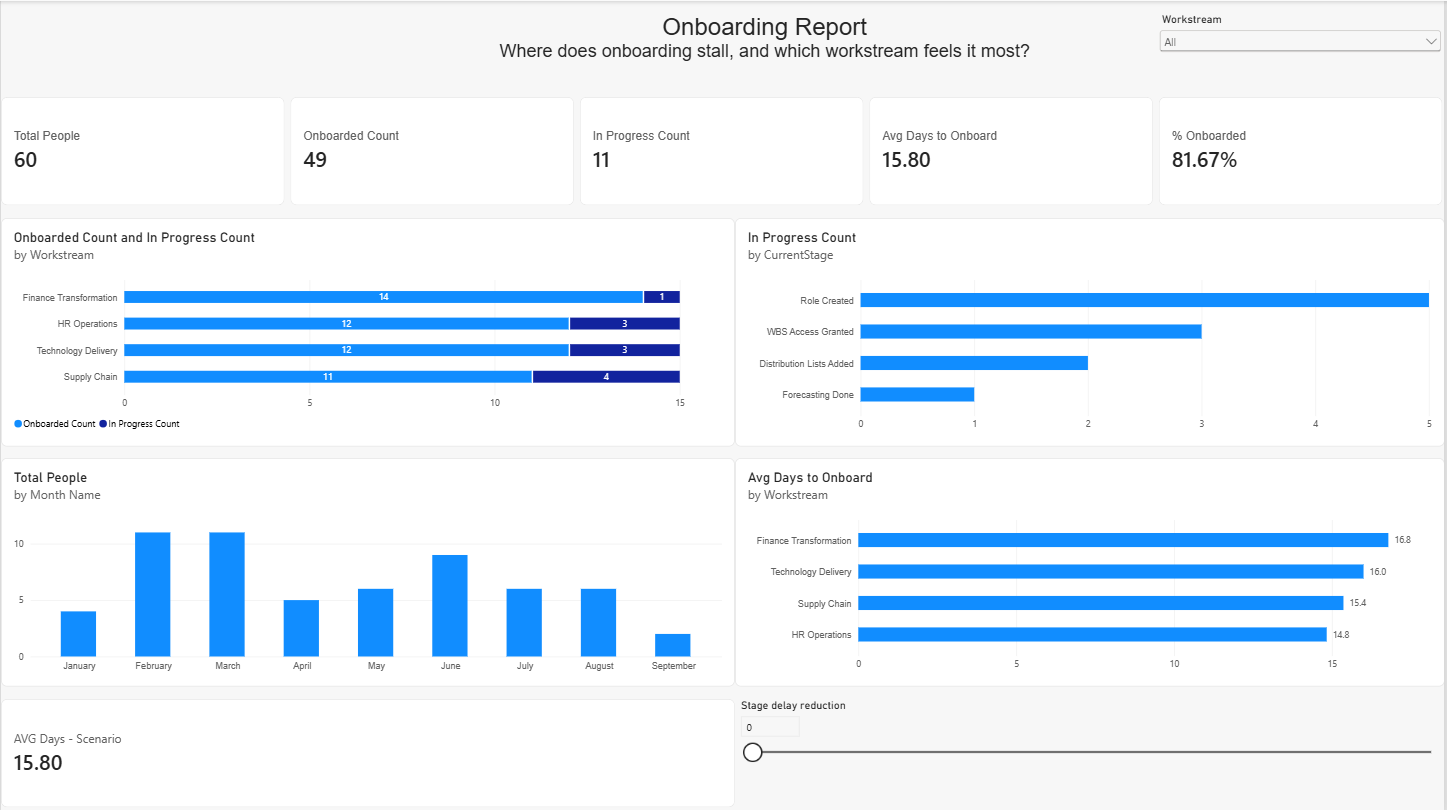

This screenshot's page, from the dashboard's own definition file:
{"tool":"powerbi","page":{"name":"Onboarding Report","canvas":[1920,1080],"ordinal":0},"visuals":[{"type":"clusteredBarChart","fields":{"Category":["FactOnboarding.Workstream"],"Y":["FactOnboarding.Avg Days to Onboard"]},"box":[976,608,944,304],"z":0},{"type":"barChart","fields":{"Category":["FactOnboarding.Workstream"],"Y":["FactOnboarding.Onboarded Count","FactOnboarding.In Progress Count"]},"box":[0,288,976,304],"z":1},{"type":"barChart","fields":{"Category":["FactOnboarding.CurrentStage"],"Y":["FactOnboarding.In Progress Count"]},"box":[976,288,944,304],"z":2},{"type":"columnChart","fields":{"Category":["DimDate.Month Name"],"Y":["FactOnboarding.Total People"]},"box":[0,608,976,304],"z":3},{"type":"cardVisual","fields":{"Data":["FactOnboarding.Total People","FactOnboarding.Onboarded Count","FactOnboarding.In Progress Count","FactOnboarding.Avg Days to Onboard","FactOnboarding.% Onboarded"]},"box":[0,128,1920,144],"z":5},{"type":"textbox","box":[656,16,720,80],"z":7},{"type":"slicer","fields":{"Values":["FactOnboarding.Workstream"]},"box":[1536,16,384,64],"z":8},{"type":"cardVisual","fields":{"Data":["FactOnboarding.AVG Days - Scenario"]},"box":[0,928,976,144],"z":9},{"type":"slicer","fields":{"Values":["Stage delay reduction.Stage delay reduction"]},"box":[976,928,944,144],"z":10}]}

Visuals, with their boxes in screenshot pixels (x1, y1, x2, y2), scaled from the page's 1920x1080 canvas onto the 1447x810 screenshot:
clusteredBarChart - FactOnboarding.Workstream x FactOnboarding.Avg Days to Onboard: (left=736, top=456, right=1446, bottom=684)
barChart - FactOnboarding.Workstream x FactOnboarding.Onboarded Count: (left=0, top=216, right=736, bottom=444)
barChart - FactOnboarding.CurrentStage x FactOnboarding.In Progress Count: (left=736, top=216, right=1446, bottom=444)
columnChart - DimDate.Month Name x FactOnboarding.Total People: (left=0, top=456, right=736, bottom=684)
cardVisual - FactOnboarding.Total People x FactOnboarding.Onboarded Count: (left=0, top=96, right=1446, bottom=204)
textbox: (left=494, top=12, right=1037, bottom=72)
slicer - FactOnboarding.Workstream: (left=1158, top=12, right=1446, bottom=60)
cardVisual - FactOnboarding.AVG Days - Scenario: (left=0, top=696, right=736, bottom=804)
slicer - Stage delay reduction.Stage delay reduction: (left=736, top=696, right=1446, bottom=804)
